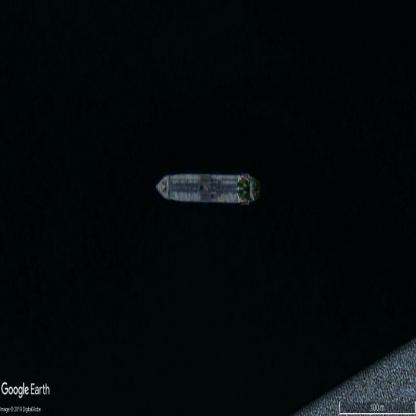ship: (155, 170, 258, 207)
